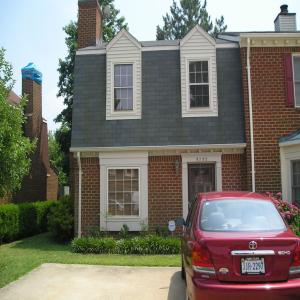Vehicle-registration-plate: (242, 257, 266, 277)
